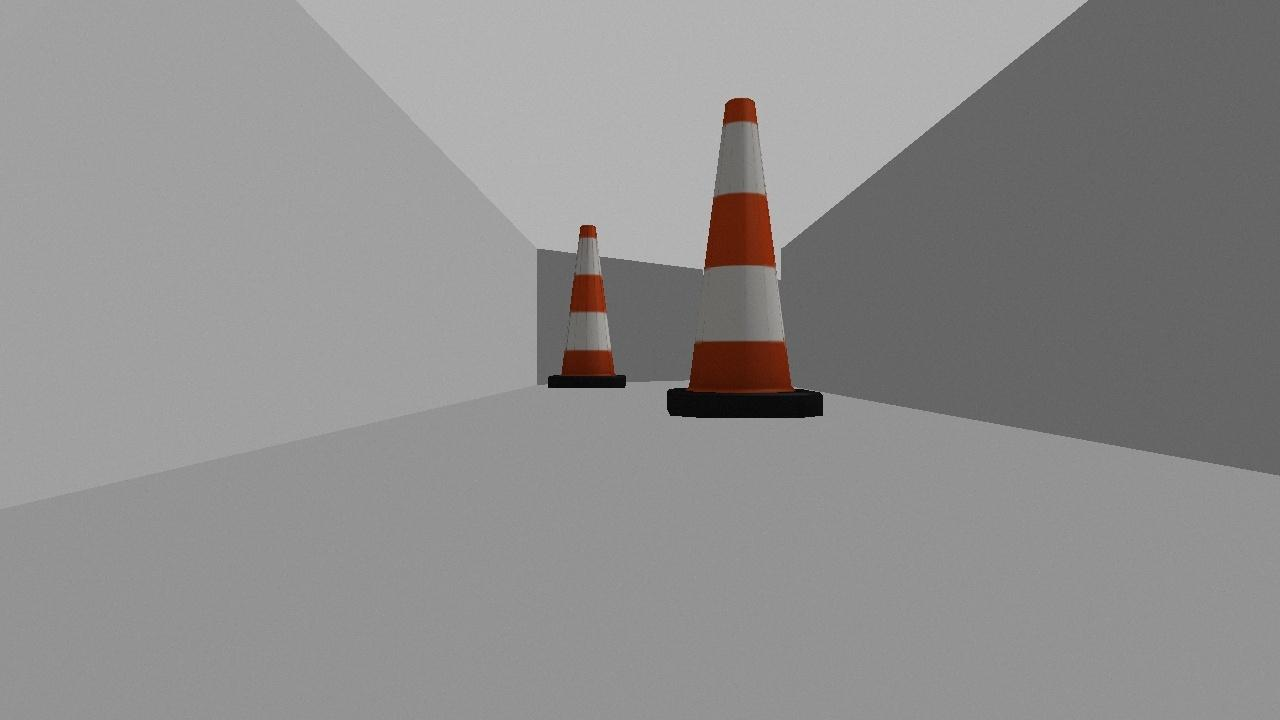cone_barrel: (658, 90, 828, 426), (542, 220, 632, 393)
